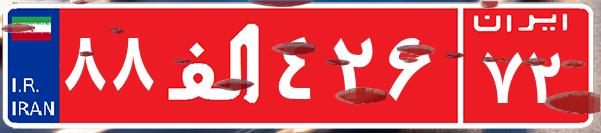2: (330, 28, 385, 110), (525, 38, 570, 115)
4: (273, 28, 330, 110)
6: (385, 28, 445, 110)
7: (475, 38, 525, 113)
8: (57, 26, 110, 107), (110, 28, 158, 105)
الف: (158, 15, 273, 115)
